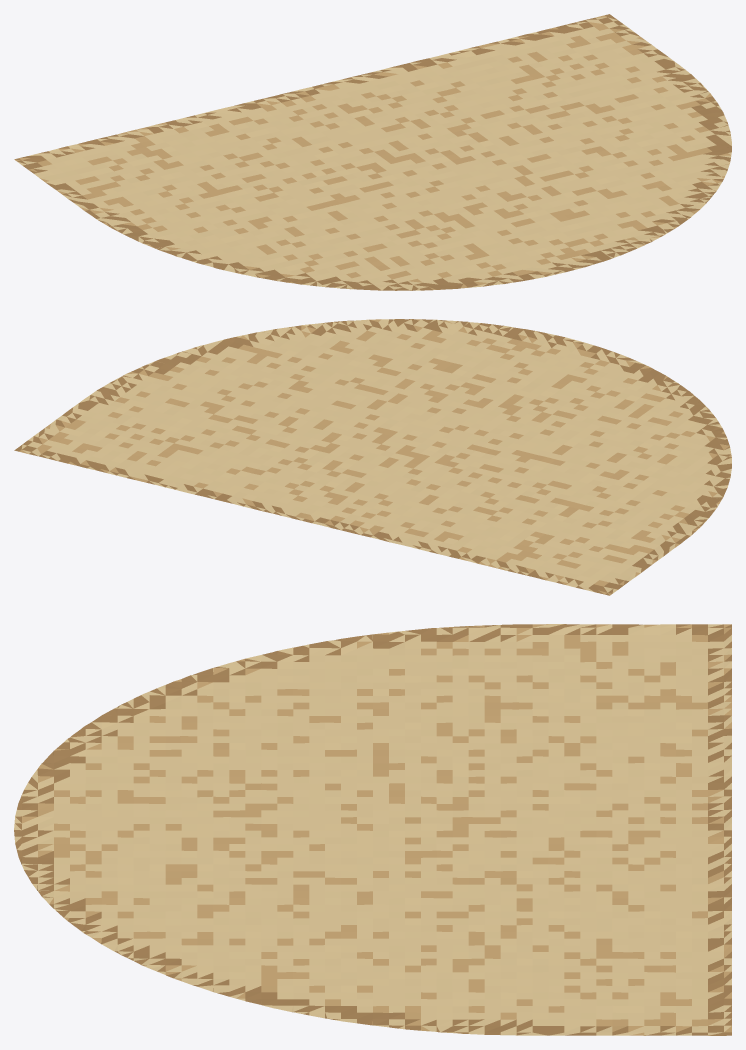
The model's file is SM_AmphiFloor.fbx.
3 views of the same model, one above another, from view 1: azimuth 30°, elevation 25°; view 2: azimuth 150°, elevation 25°; view 3: azimuth 270°, elevation 25° (orthographic). The views are drawn at different scales.
Visible parts, largest first — view 1: SM_AmphiFloor; view 2: SM_AmphiFloor; view 3: SM_AmphiFloor.
Part boxes in pixels (<box>): SM_AmphiFloor: <box>14,14,731,290</box>; SM_AmphiFloor: <box>14,319,731,595</box>; SM_AmphiFloor: <box>14,624,731,1035</box>.
Bounding box in the file's own units: 122 × 90 × 0.1598.
